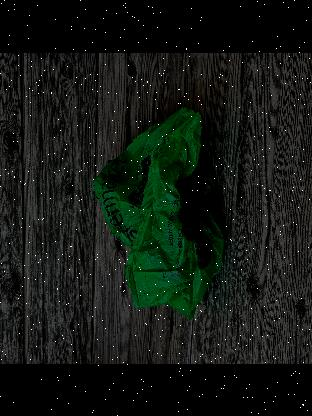Others: (83, 104, 233, 322)
